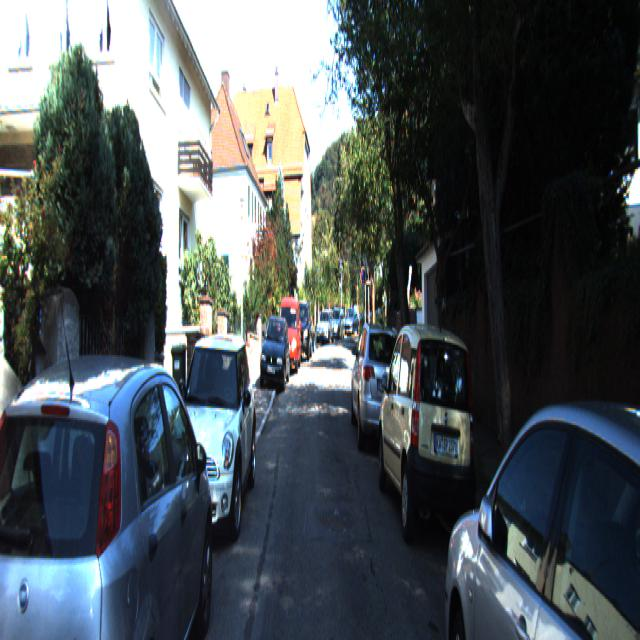Car: (0, 336, 216, 638), (440, 352, 640, 638), (377, 316, 484, 562), (160, 330, 256, 557), (350, 319, 409, 468), (259, 314, 290, 398), (277, 294, 301, 376), (291, 300, 313, 364), (316, 309, 335, 346)
